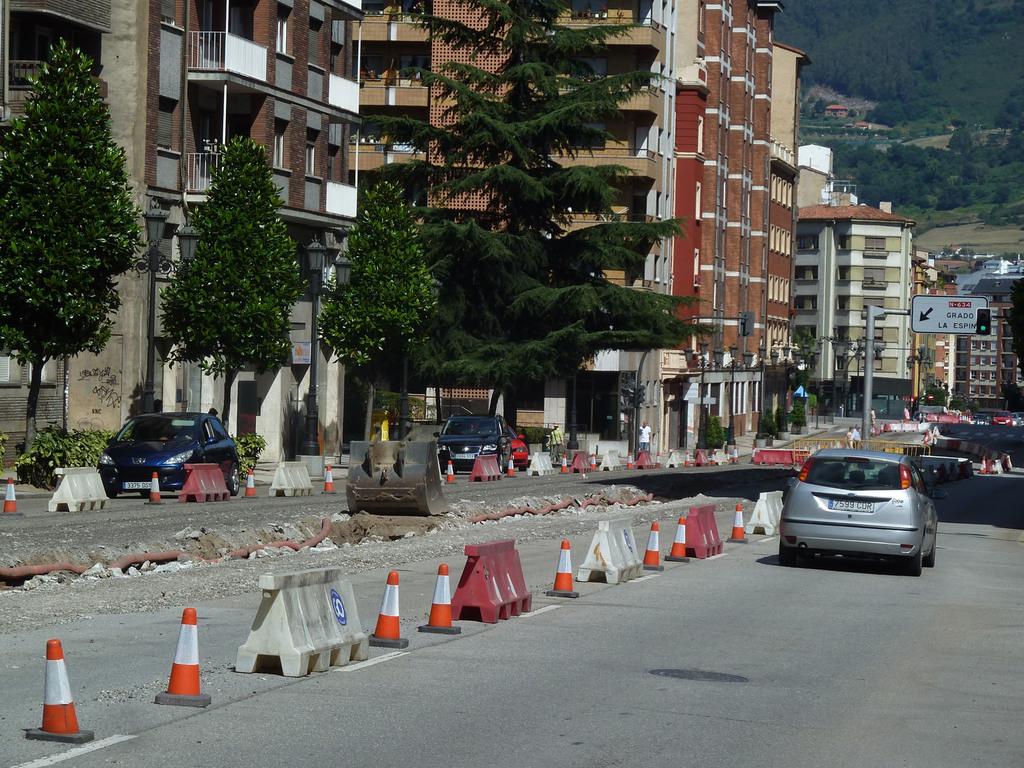Car: (772, 444, 942, 568), (98, 411, 238, 495), (430, 420, 511, 467), (510, 425, 529, 467), (990, 411, 1011, 424), (1009, 410, 1022, 425)
